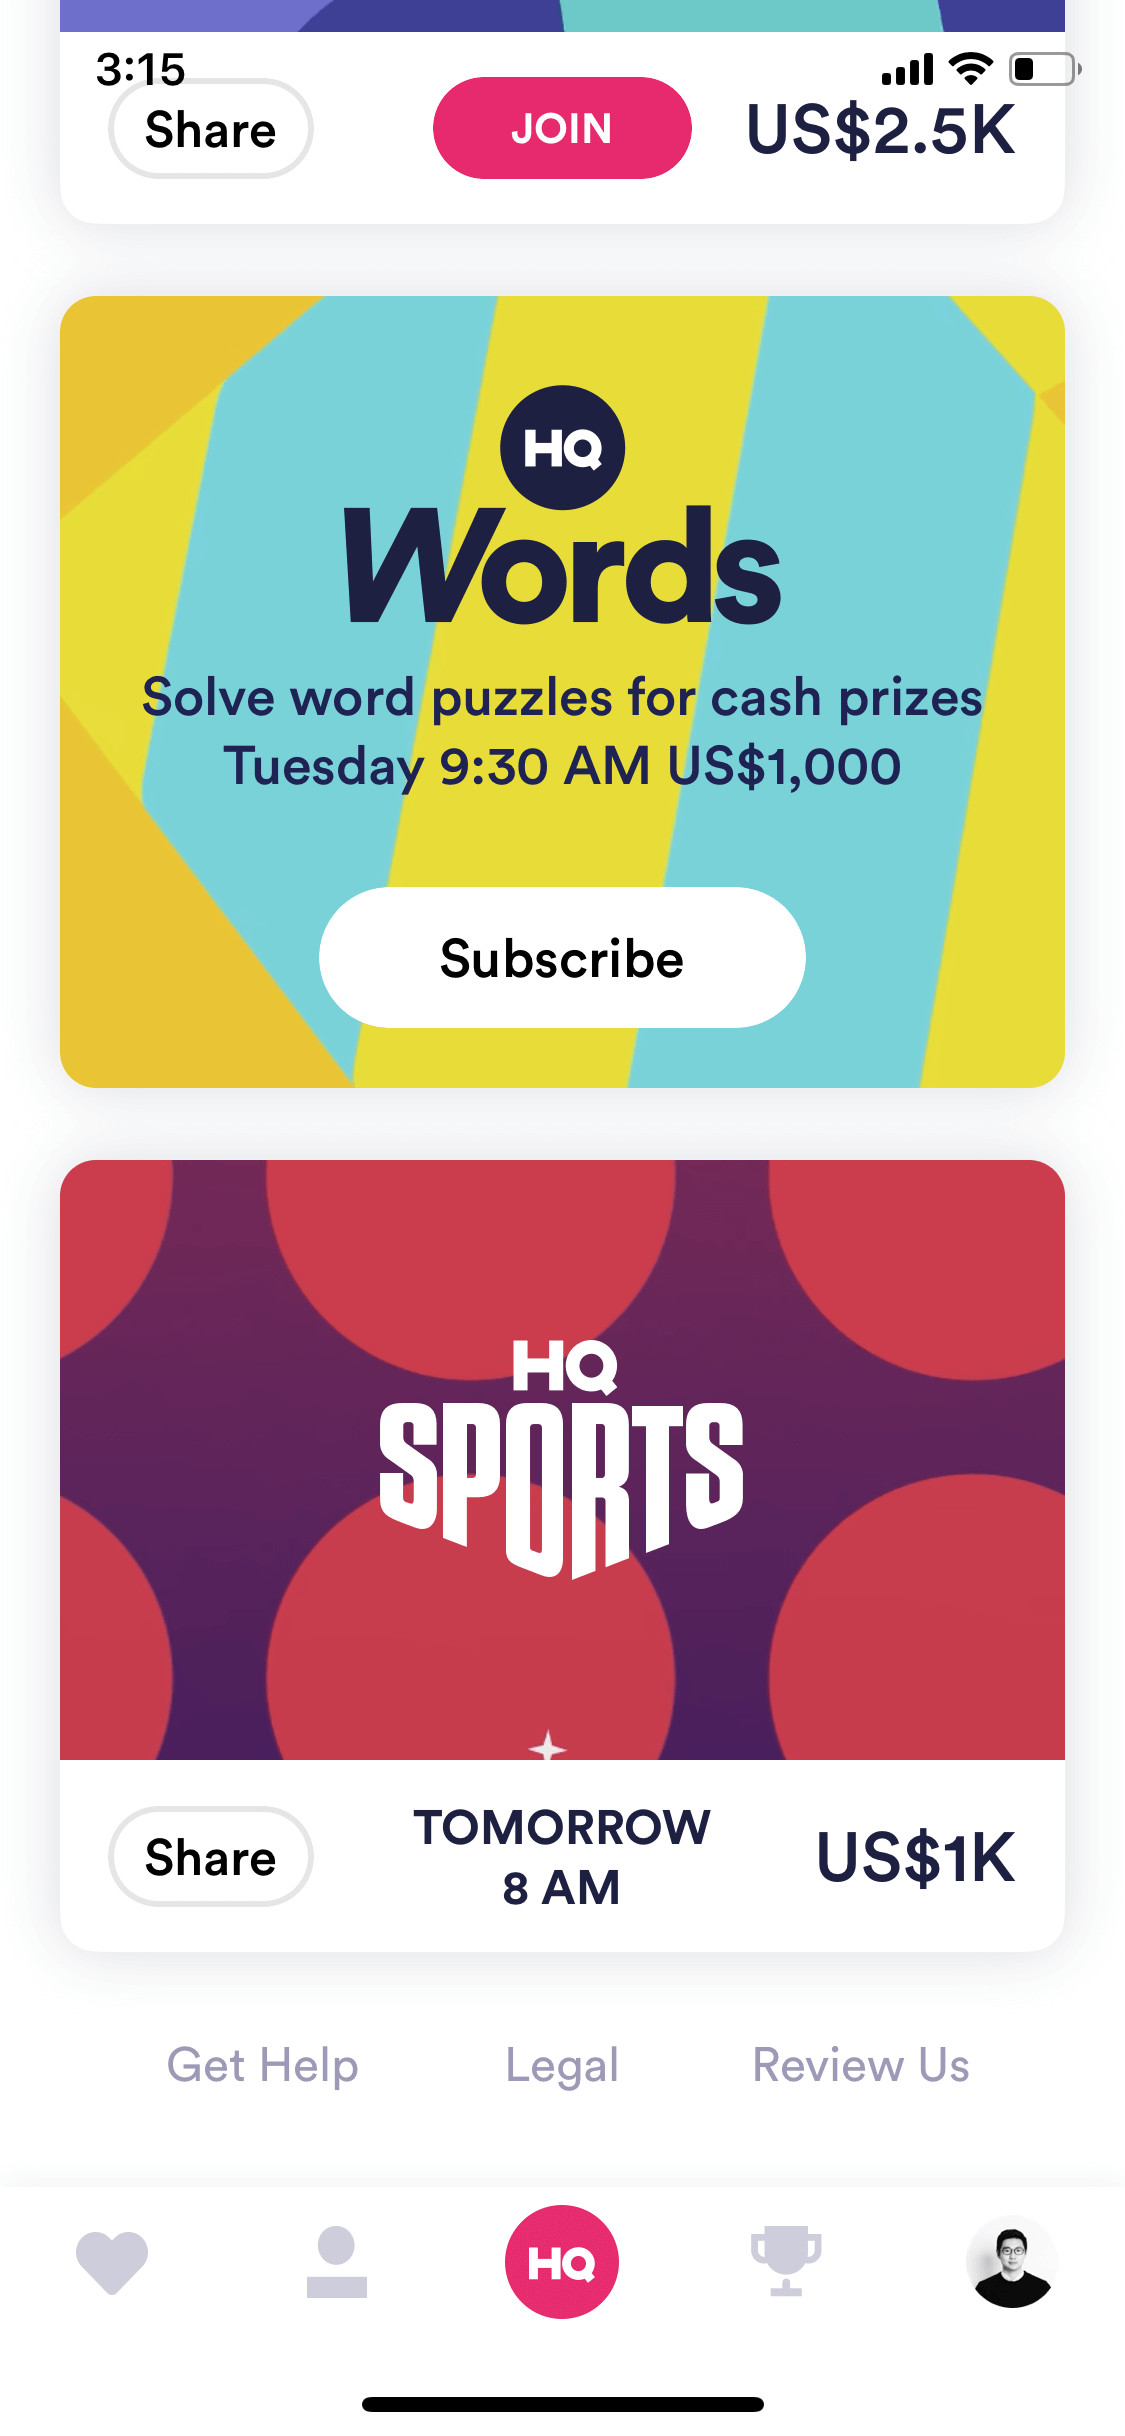Buttons: (306, 870, 828, 1041), (421, 65, 709, 186), (712, 2004, 1001, 2124), (127, 1998, 387, 2124), (90, 1799, 333, 1920), (103, 67, 331, 185), (475, 1999, 656, 2122)
